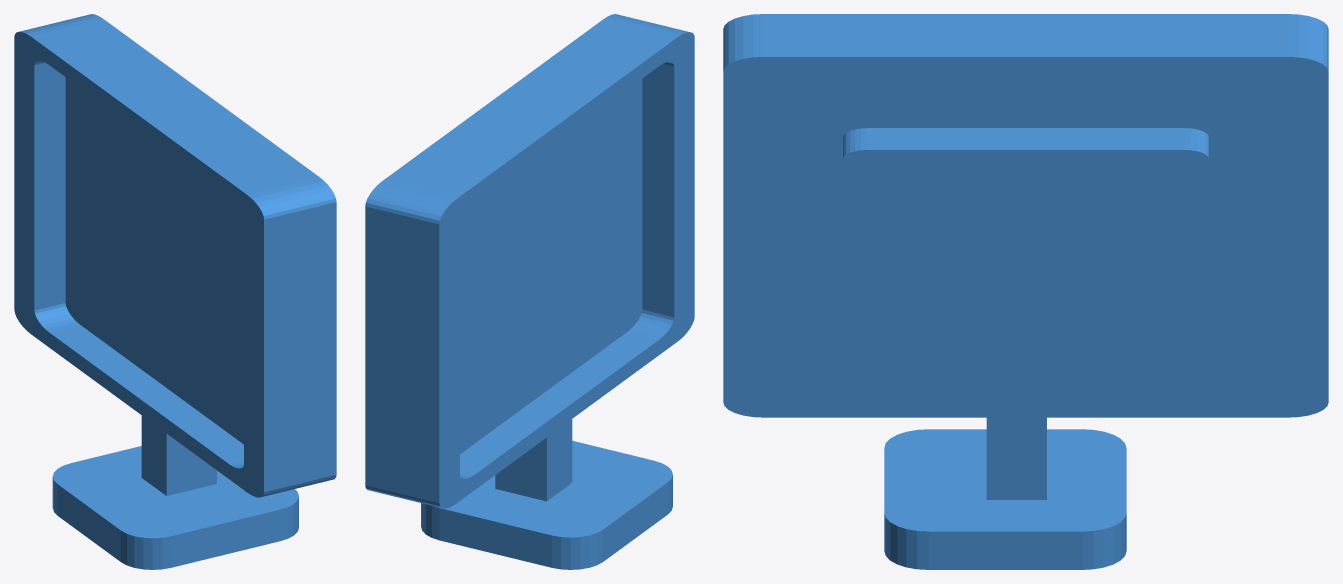
File: Monitor.fbx
3 renders of one model, left to right at view 1: azimuth 30°, elevation 25°; view 2: azimuth 150°, elevation 25°; view 3: azimuth 270°, elevation 25°, orthographic. The views are drawn at different scales.
Parts seen in each view (by area): view 1: monitor; view 2: monitor; view 3: monitor.
Boxes of the visible parts, <box> form: monitor: <box>14,14,336,569</box>; monitor: <box>365,14,694,569</box>; monitor: <box>723,14,1328,569</box>.
Bounding box in the file's own units: 1.15 × 2.55 × 2.87.
